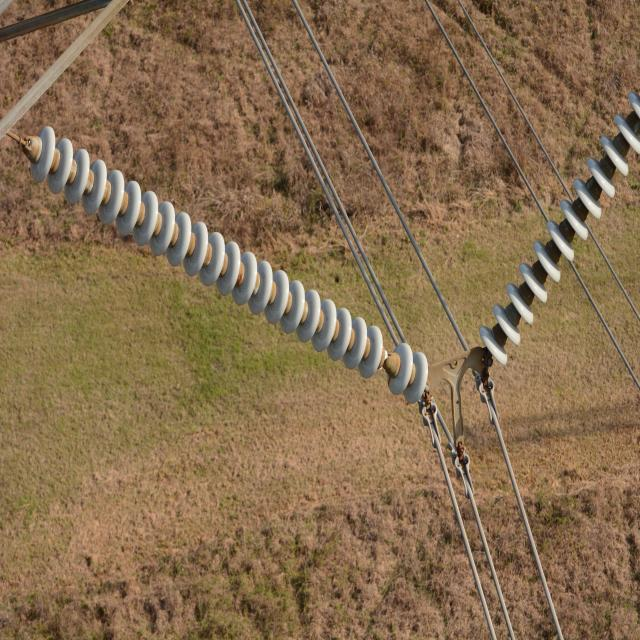broken: (374, 342, 390, 372)
insulator: (31, 125, 428, 402), (480, 95, 640, 363)
